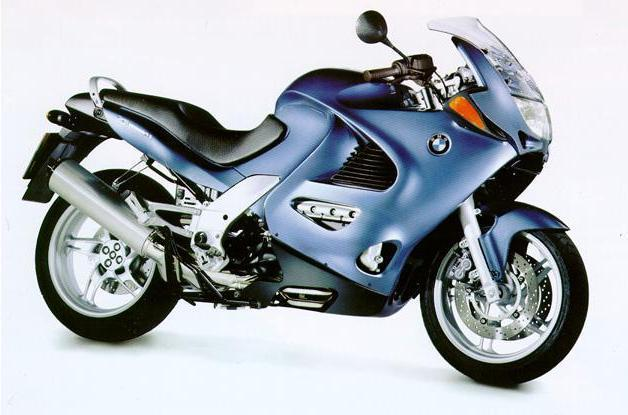Motorcycle: (9, 0, 599, 397)
